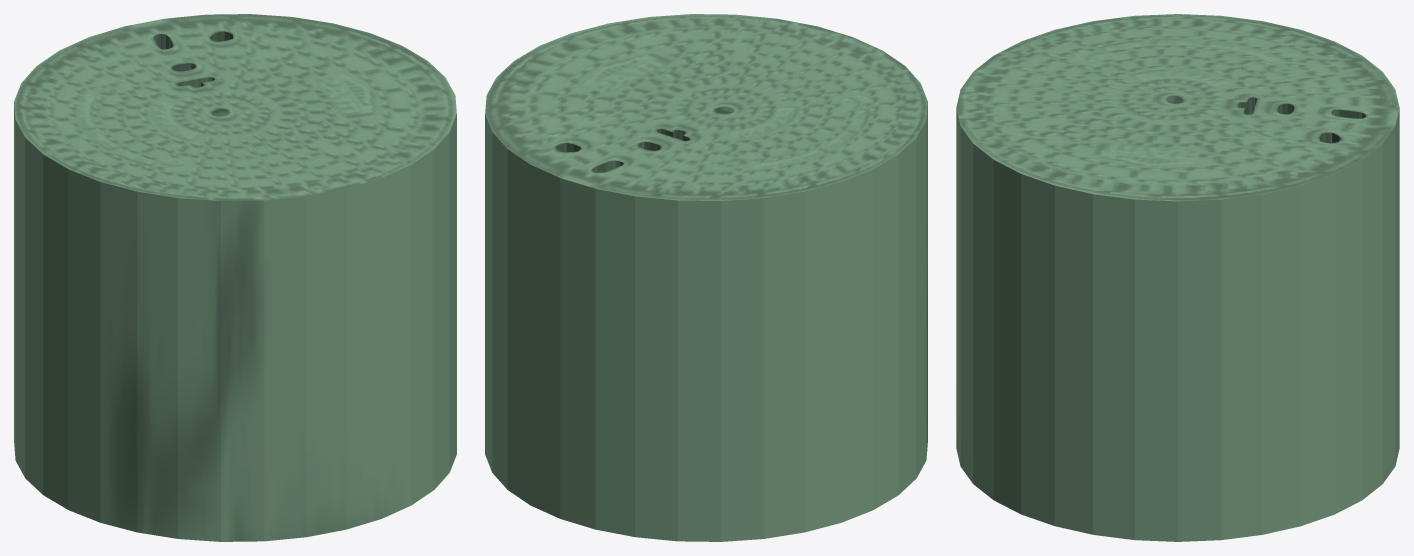
Rendered from sewer.glb.
3 views of the same model, side by side, from view 1: azimuth 30°, elevation 25°; view 2: azimuth 150°, elevation 25°; view 3: azimuth 270°, elevation 25° (orthographic).
Parts seen in each view (by area): view 1: Cylinder; view 2: Cylinder; view 3: Cylinder.
Boxes of the visible parts, bbox=[...] form: Cylinder: bbox=[14, 14, 456, 541]; Cylinder: bbox=[485, 14, 927, 541]; Cylinder: bbox=[956, 14, 1399, 541].
Bounding box in the file's own units: 1.18 × 0.9999 × 1.18.
Materials: 1 (1 with a texture image).
